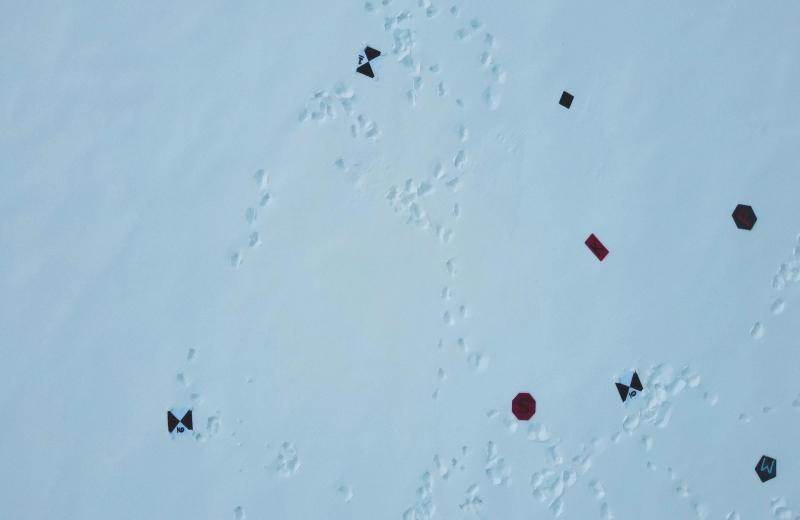Hexagon: (730, 200, 760, 240)
Octagon: (508, 388, 539, 422)
Pentagon: (754, 449, 780, 484)
Rectangle: (583, 231, 611, 266)
Square: (554, 89, 577, 113)
